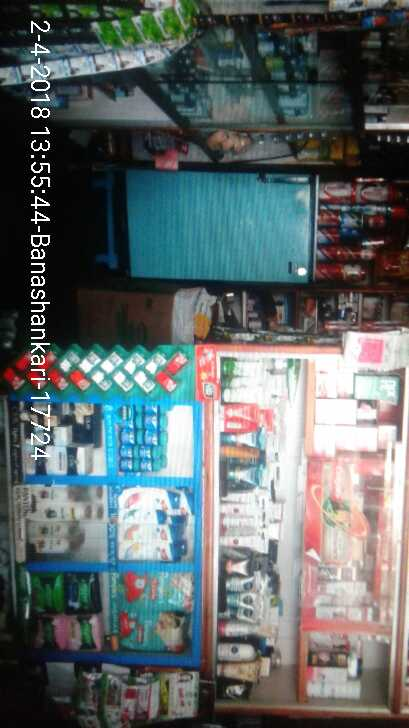vicks: (114, 405, 172, 473)
